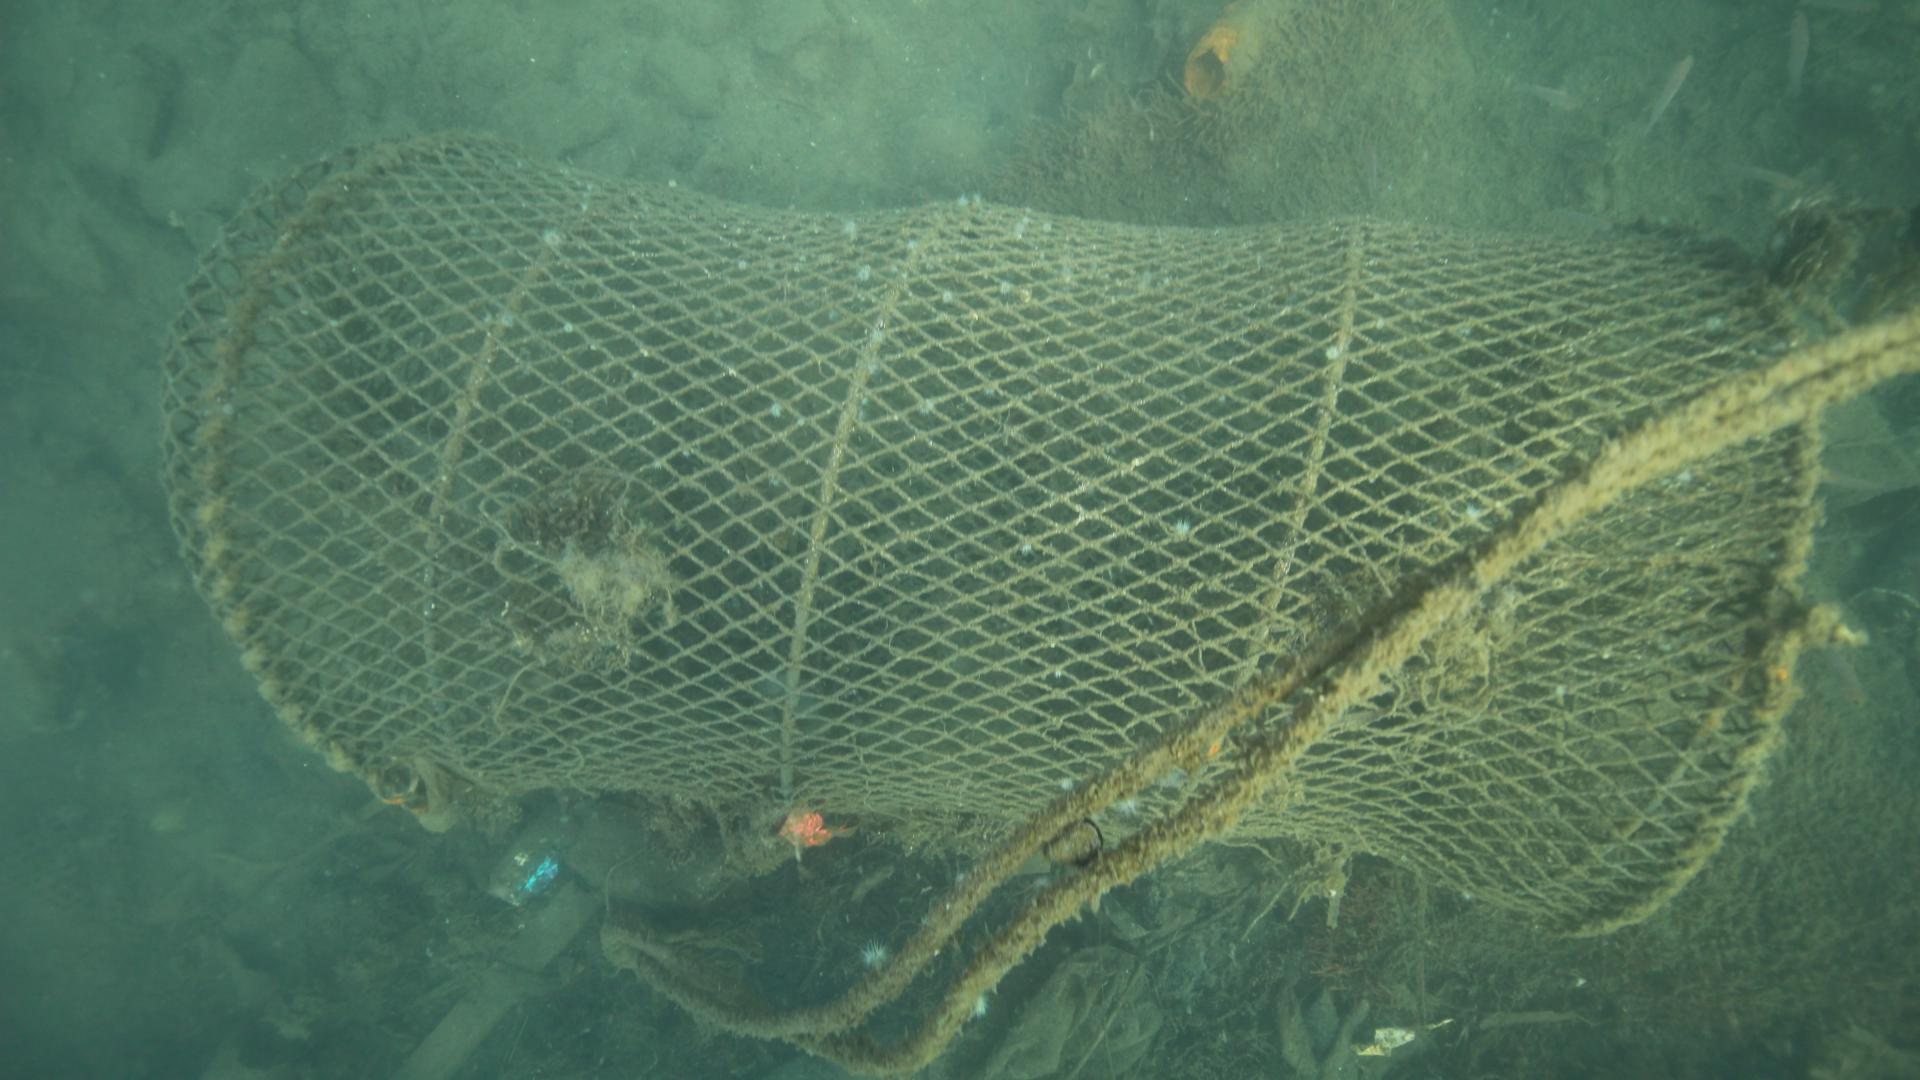bundle of ropes: (603, 306, 1920, 1077)
spring fish trap: (157, 113, 1829, 944)
